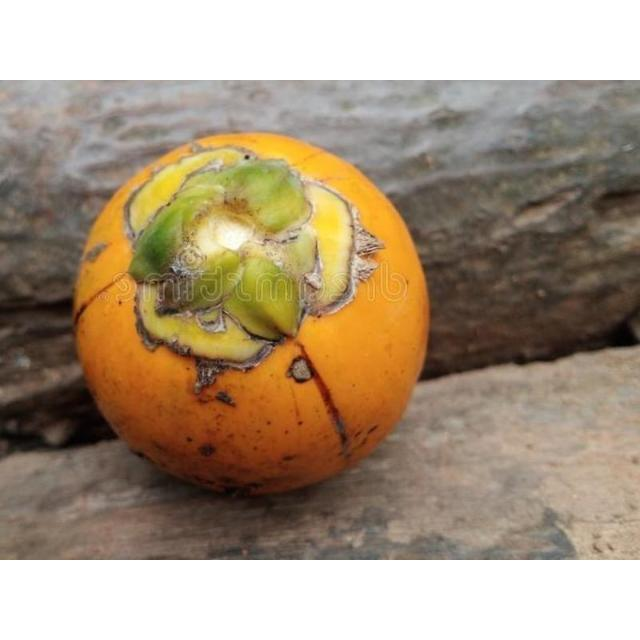good: (74, 132, 431, 498)
